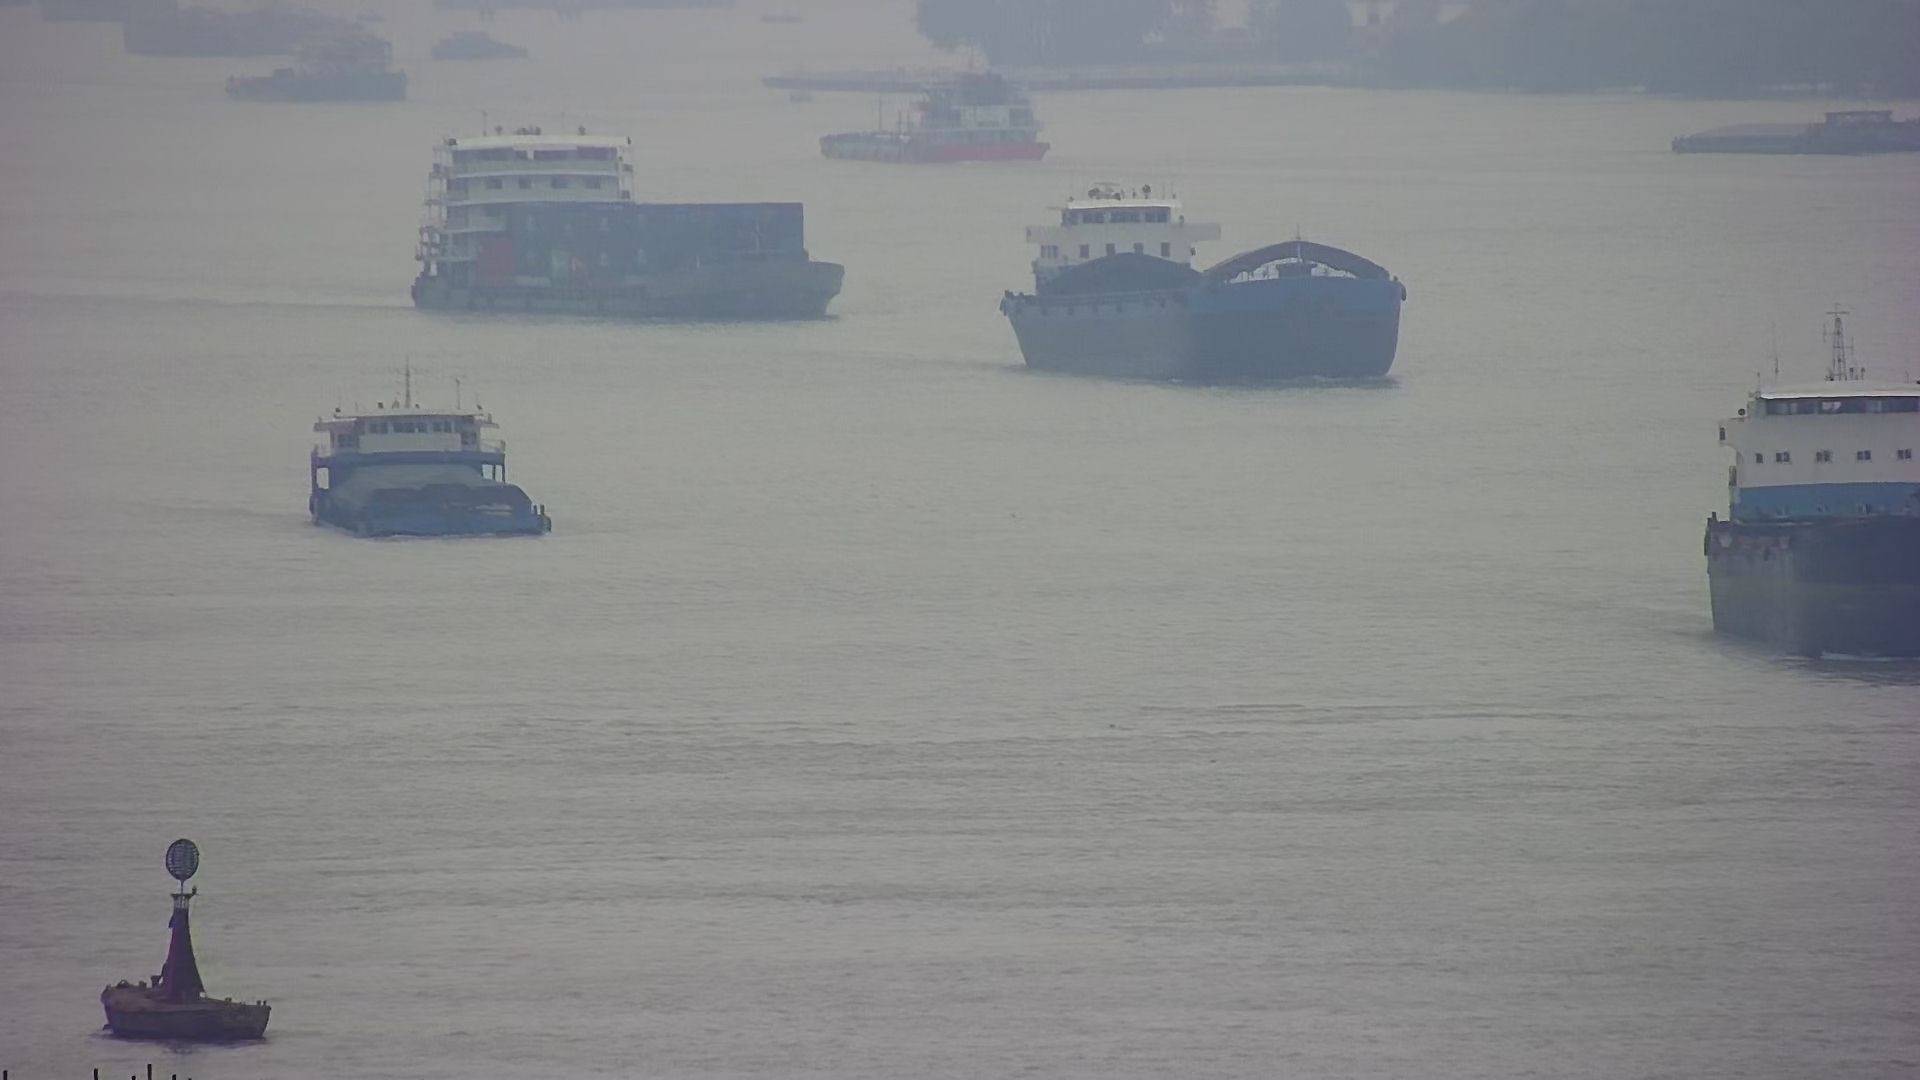boat: (103, 832, 274, 1051)
ship: (400, 133, 840, 331), (1698, 320, 1920, 688), (996, 193, 1410, 386), (303, 390, 549, 547), (819, 65, 1058, 170), (1665, 102, 1920, 162)
